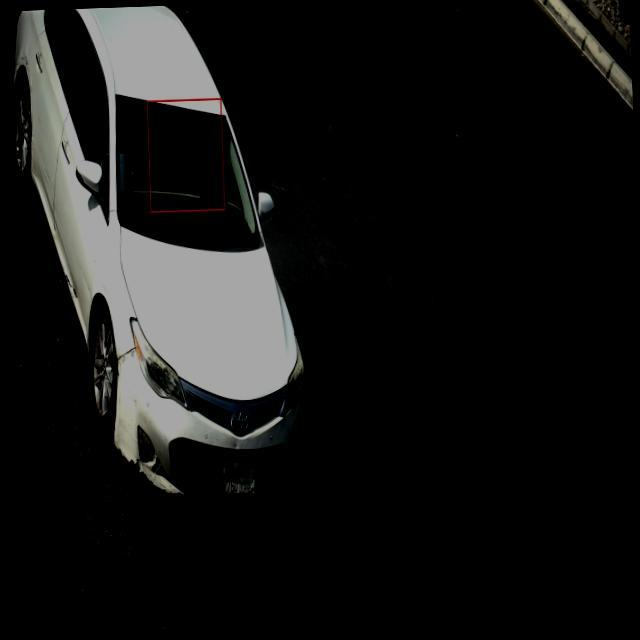windshield: (97, 89, 271, 254)
